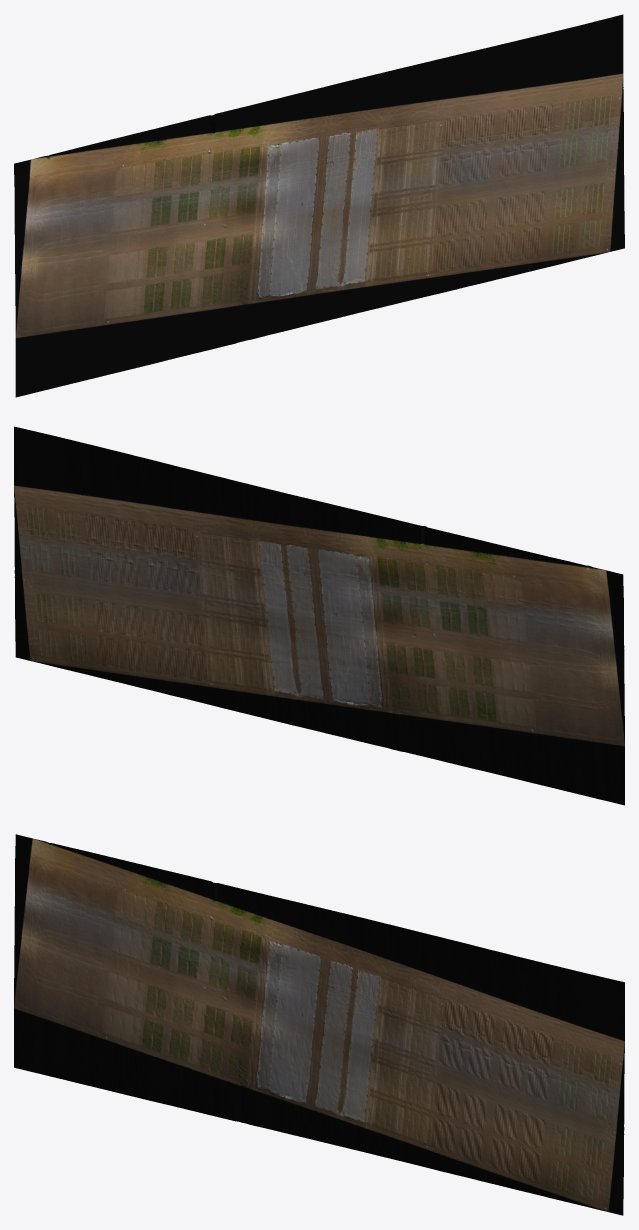
The model's file is terrain.obj.
3 renders of one model, top to bottom at view 1: azimuth 30°, elevation 25°; view 2: azimuth 150°, elevation 25°; view 3: azimuth 330°, elevation 25°, orthographic.
Parts seen in each view (by area): view 1: terrain; view 2: terrain; view 3: terrain.
Part boxes in pixels (x1,y1,x2,y2): terrain: [14, 14, 624, 397]; terrain: [14, 426, 624, 805]; terrain: [14, 834, 624, 1215].
Bounding box in the file's own units: 174 × 63.45 × 1.43.
1 material, 1 textured.
